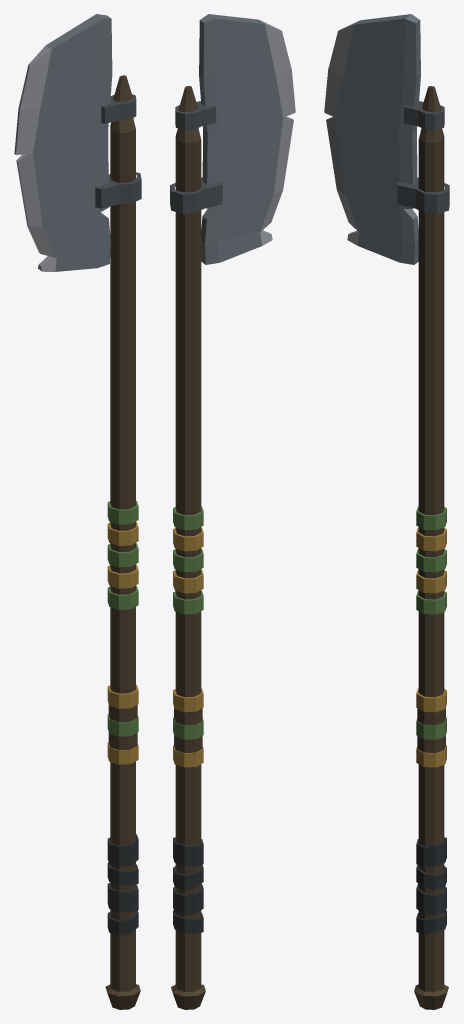
Rendered from PoleArm.glb.
3 renders of one model, left to right at view 1: azimuth 30°, elevation 25°; view 2: azimuth 210°, elevation 25°; view 3: azimuth 330°, elevation 25°, orthographic.
Parts seen in each view (by area): view 1: PoleArm; view 2: PoleArm; view 3: PoleArm.
Part boxes in pixels (x1,y1,x2,y2): PoleArm: (14,14,141,1009); PoleArm: (170,14,295,1009); PoleArm: (324,14,449,1009).
Bounding box in the file's own units: 6653 × 50416 × 1686.
1 material, 1 textured.
